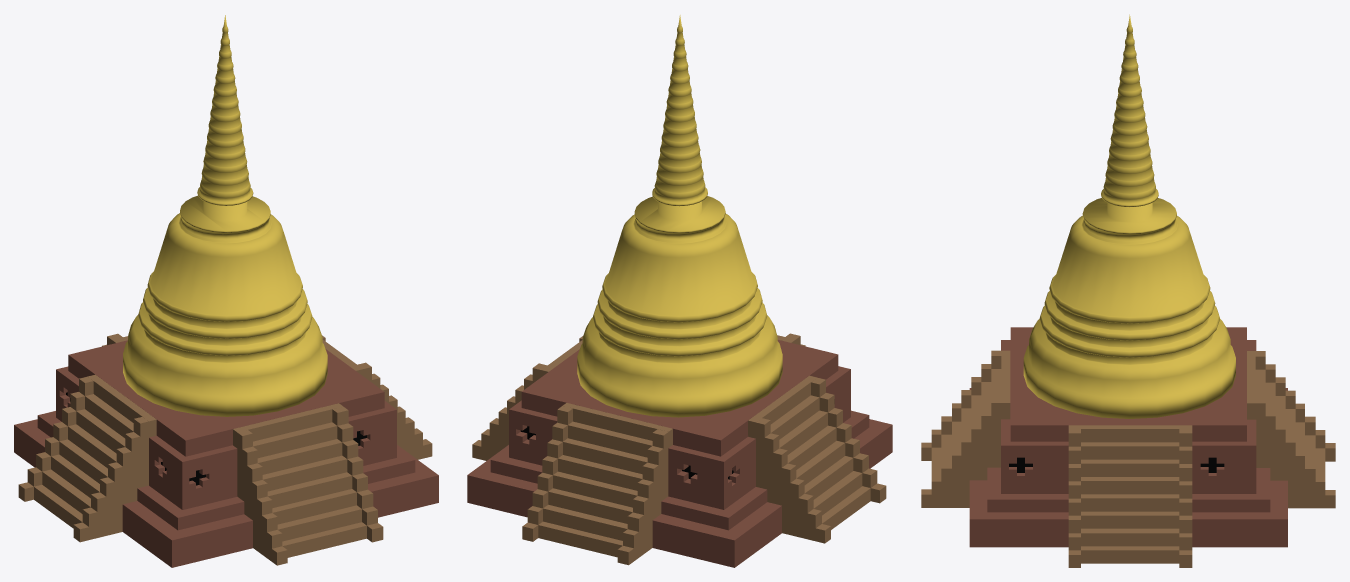
File: Wat Chedi Luang.fbx
The picture shows the model from 3 angles, left to right: view 1: azimuth 30°, elevation 25°; view 2: azimuth 150°, elevation 25°; view 3: azimuth 270°, elevation 25°; orthographic projection.
Visible parts, largest first — view 1: JD, Bundai; view 2: JD, Bundai; view 3: JD, Bundai.
Part boxes in pixels (x1,y1,x2,y2): JD: [14, 15, 438, 567]; Bundai: [18, 333, 432, 565]; JD: [467, 15, 892, 567]; Bundai: [472, 333, 886, 565]; JD: [969, 14, 1287, 547]; Bundai: [921, 350, 1335, 567].
Bounding box in the file's own units: 1646 × 2070 × 1665.
